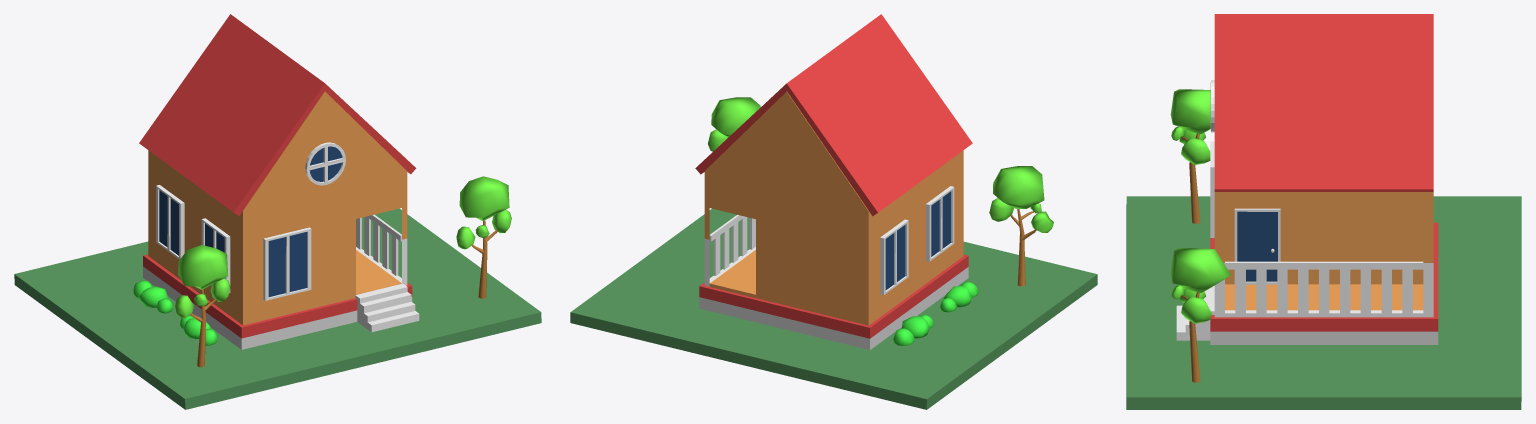
Rendered from house-11.fbx.
3 views of the same model, side by side, from view 1: azimuth 30°, elevation 25°; view 2: azimuth 150°, elevation 25°; view 3: azimuth 270°, elevation 25° (orthographic). The views are drawn at different scales.
Parts seen in each view (by area): view 1: Plane, Cube, Cube.001, Cube.002, big window 1, tree_1.001, tree_1.006, Cube.003, big window 1.002, Cylinder.001, big window 1.001; view 2: Plane, Cube, Cube.001, Cube.002, tree_1.001, big window 1.001, big window 1.002, tree_1.006; view 3: Plane, Cube.001, Cube, Cube.002, tree_1.006, tree_1.001, Cube.005, Cube.003, big window 1.
Part boxes in pixels (<box>): Plane: <box>14,208,541,409</box>; Cube: <box>148,91,407,325</box>; Cube.001: <box>139,14,416,215</box>; Cube.002: <box>143,254,412,349</box>; big window 1: <box>263,227,311,300</box>; tree_1.001: <box>175,245,230,367</box>; tree_1.006: <box>456,176,511,298</box>; Cube.003: <box>355,283,419,332</box>; big window 1.002: <box>156,185,184,259</box>; Cylinder.001: <box>305,142,345,185</box>; big window 1.001: <box>201,218,230,293</box>; Plane: <box>570,208,1097,409</box>; Cube: <box>704,91,963,325</box>; Cube.001: <box>695,14,972,216</box>; Cube.002: <box>699,254,968,349</box>; tree_1.001: <box>989,166,1053,286</box>; big window 1.001: <box>926,186,954,261</box>; big window 1.002: <box>880,219,908,294</box>; tree_1.006: <box>708,97,760,215</box>; Plane: <box>1126,196,1521,409</box>; Cube.001: <box>1214,14,1433,191</box>; Cube: <box>1214,192,1433,317</box>; Cube.002: <box>1210,222,1438,344</box>; tree_1.006: <box>1170,248,1230,382</box>; tree_1.001: <box>1170,89,1210,223</box>; Cube.005: <box>1234,208,1280,284</box>; Cube.003: <box>1176,285,1214,340</box>; big window 1: <box>1210,141,1214,237</box>.
Bounding box in the file's own units: 2956 × 2018 × 2448.
